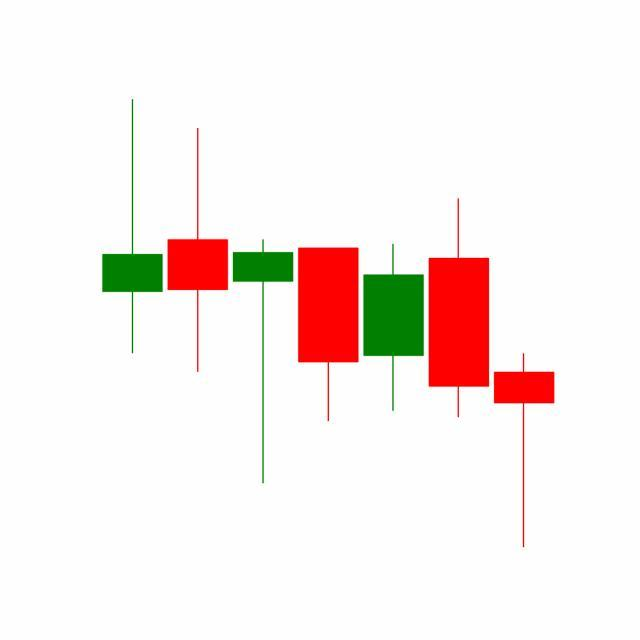Three Outside Up-Down: (360, 194, 556, 549)
